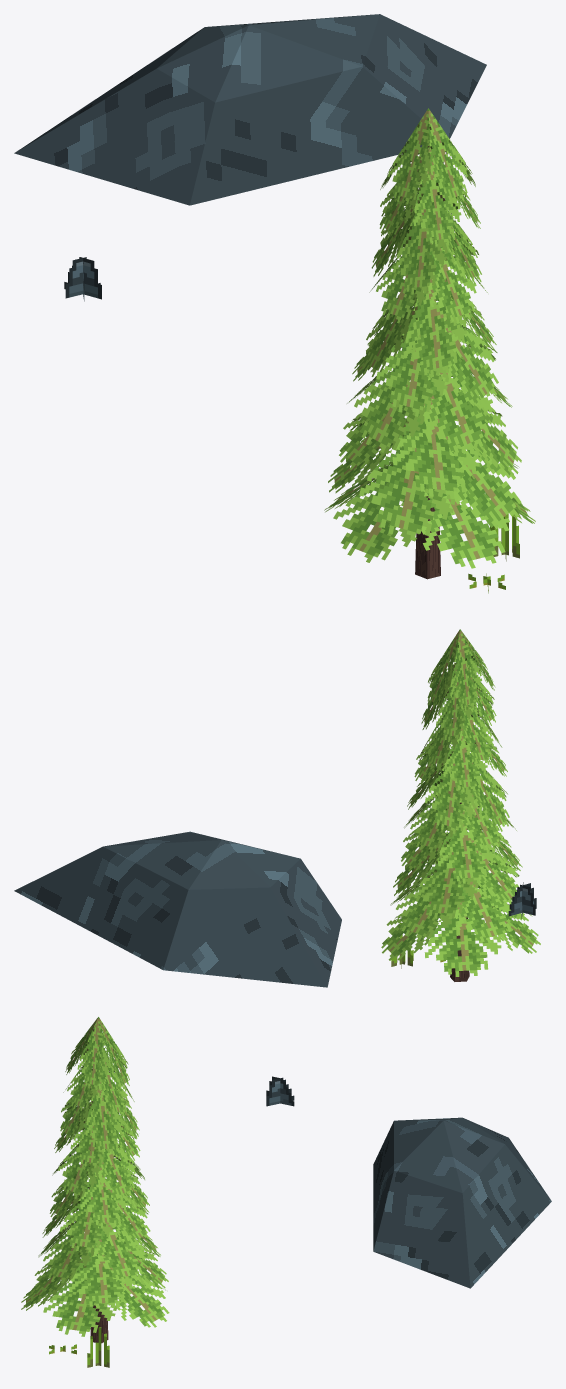
File: Decoration.glb
3 views of the same model, one above another, from view 1: azimuth 30°, elevation 25°; view 2: azimuth 150°, elevation 25°; view 3: azimuth 270°, elevation 25° (orthographic). The views are drawn at different scales.
Visible parts, largest first — view 1: Big Rock, Tree, Rock_Small; view 2: Big Rock, Tree, Rock_Small; view 3: Tree, Big Rock, Rock_Small, Grass_Long.
Boxes of the visible parts, left/top/right/bottom form: Big Rock: left=14, top=14, right=486, bottom=205; Tree: left=324, top=108, right=535, bottom=579; Rock_Small: left=64, top=257, right=101, bottom=301; Big Rock: left=14, top=831, right=341, bottom=987; Tree: left=381, top=629, right=540, bottom=981; Rock_Small: left=508, top=882, right=536, bottom=918; Tree: left=21, top=1017, right=169, bottom=1343; Big Rock: left=373, top=1117, right=551, bottom=1288; Rock_Small: left=266, top=1076, right=294, bottom=1106; Grass_Long: left=87, top=1327, right=109, bottom=1367.
Bounding box in the file's own units: 5.11 × 4.01 × 6.03.
Materials: 6 (6 with a texture image).
